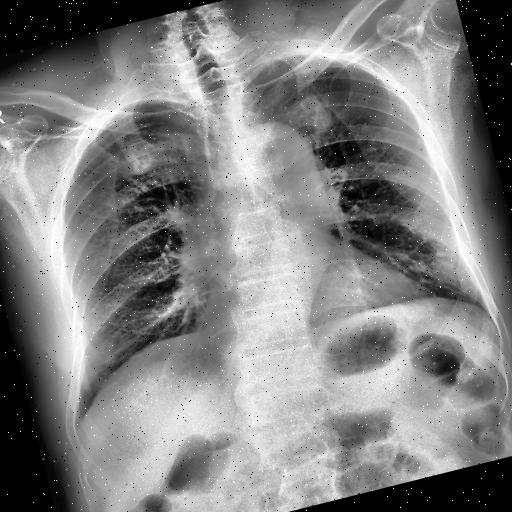0- Aortic enlargement: (220, 108, 324, 210), (237, 114, 328, 212), (243, 115, 318, 187)
